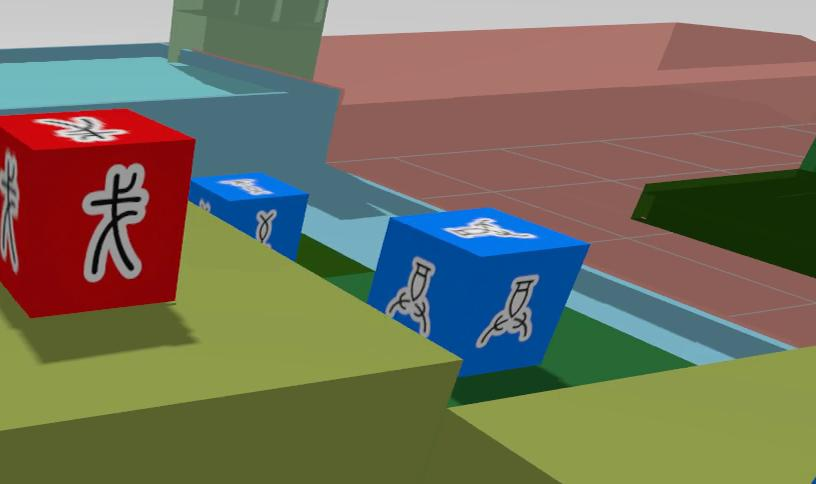KFS_FAKE: (0, 109, 194, 315), (83, 165, 148, 281), (34, 116, 129, 143), (0, 148, 19, 269)
KFS_REAL: (366, 208, 589, 375), (190, 172, 308, 258), (477, 274, 538, 347), (383, 257, 434, 336)
